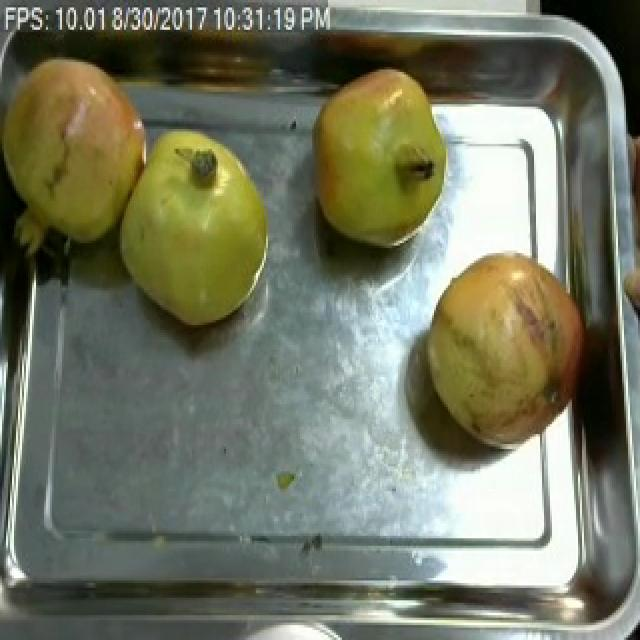fruit: (100, 112, 286, 340), (0, 40, 174, 273), (416, 238, 596, 459), (300, 59, 458, 260)
